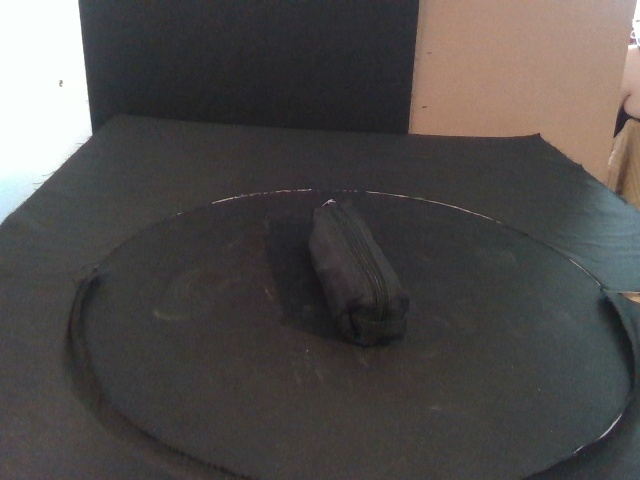pencil_case: (310, 198, 408, 345)
